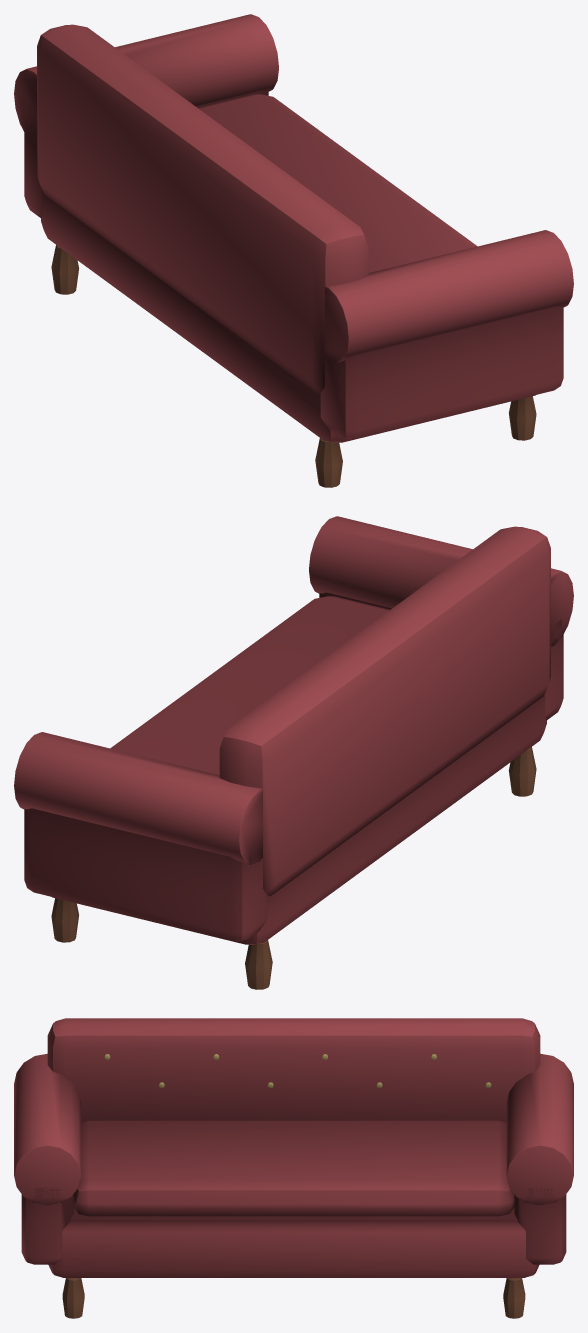
The model's file is sofa.glb.
3 views of the same model, one above another, from view 1: azimuth 30°, elevation 25°; view 2: azimuth 150°, elevation 25°; view 3: azimuth 270°, elevation 25° (orthographic). The views are drawn at different scales.
Visible parts, largest first — view 1: boat_velvet, boat_mahog; view 2: boat_velvet, boat_mahog; view 3: boat_velvet, boat_mahog.
Boxes of the visible parts, box(x1,y1,x2,y2) form: boat_velvet: box(14, 14, 573, 442); boat_mahog: box(51, 245, 536, 487); boat_velvet: box(14, 516, 573, 944); boat_mahog: box(51, 747, 536, 989); boat_velvet: box(14, 1018, 573, 1277); boat_mahog: box(62, 1278, 525, 1318).
Size of the model in its own units: 0.86 by 0.92 by 2.16.
